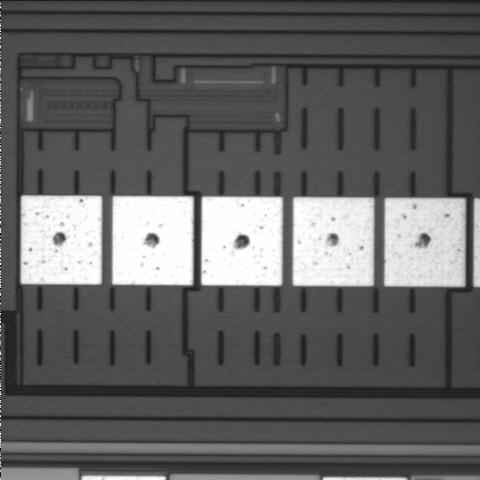pad: (112, 196, 194, 285), (201, 197, 283, 286), (21, 196, 102, 285), (293, 197, 374, 286), (384, 198, 465, 286)
